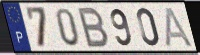0: (54, 7, 82, 48), (135, 6, 161, 48)
7: (25, 6, 50, 50)
9: (110, 8, 133, 47)
A: (165, 6, 195, 48)
B: (77, 6, 111, 49)
